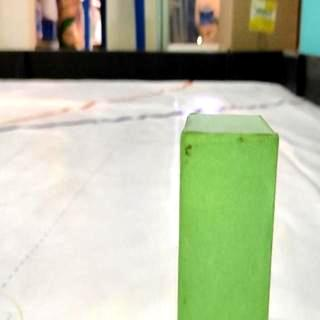greenbox: (180, 111, 280, 320)
